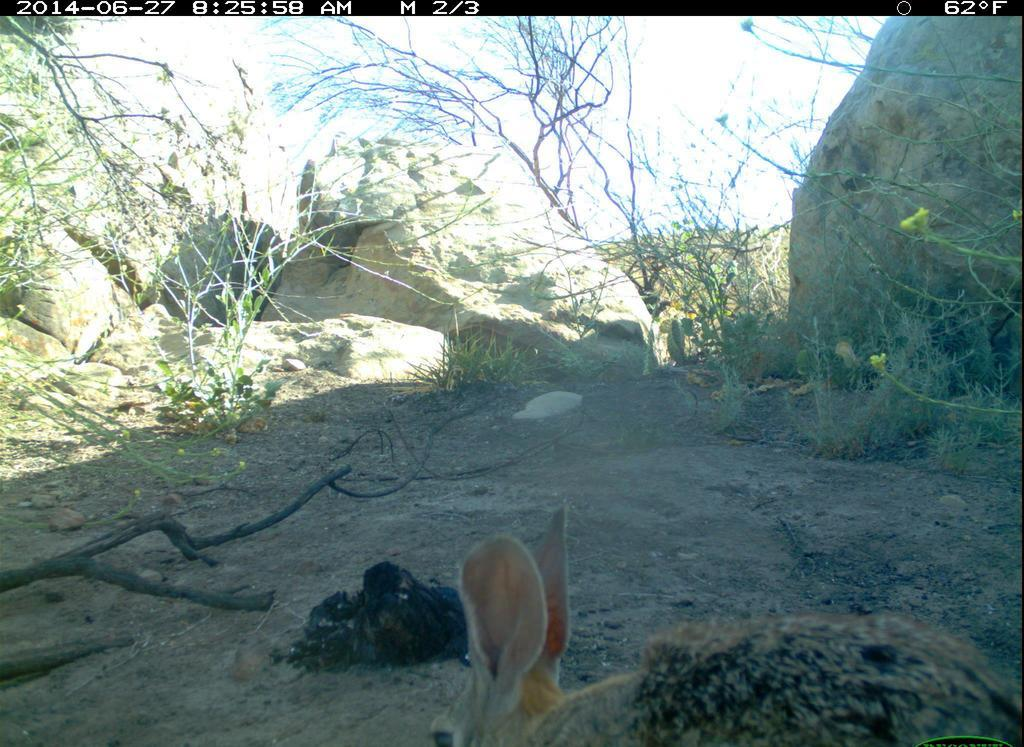rabbit: (422, 491, 1022, 747)
